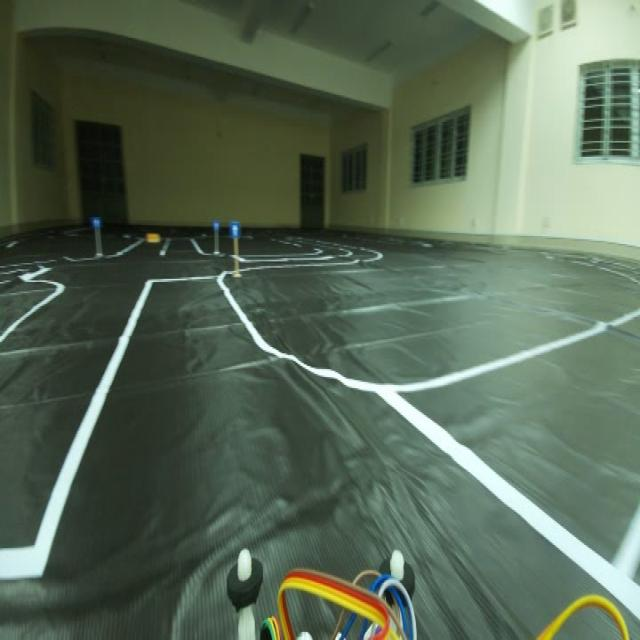onewayroad: (228, 218, 243, 238), (91, 212, 101, 236), (212, 214, 220, 233)
roadblock: (144, 230, 162, 244)
